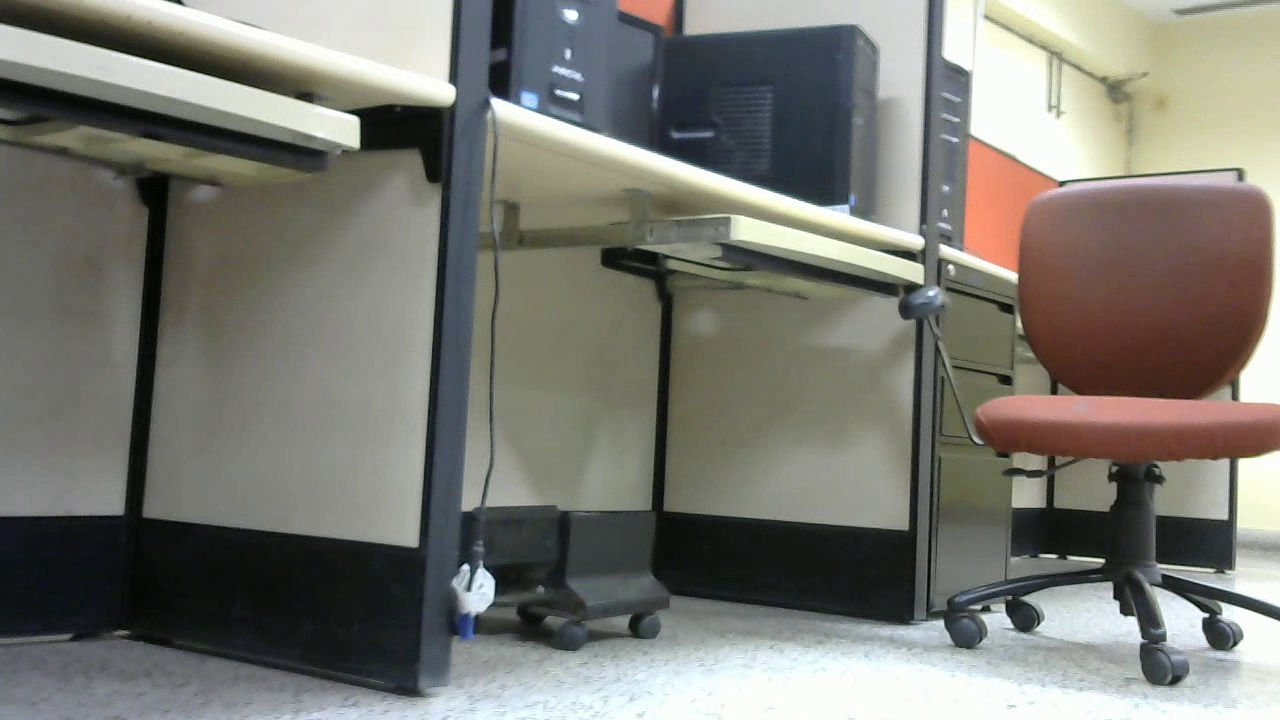chair: (898, 176, 1280, 689)
